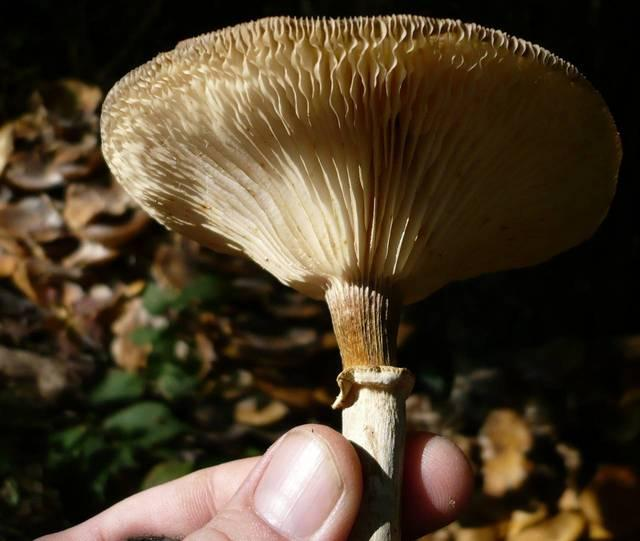edible_mushroom: (97, 12, 623, 540)
